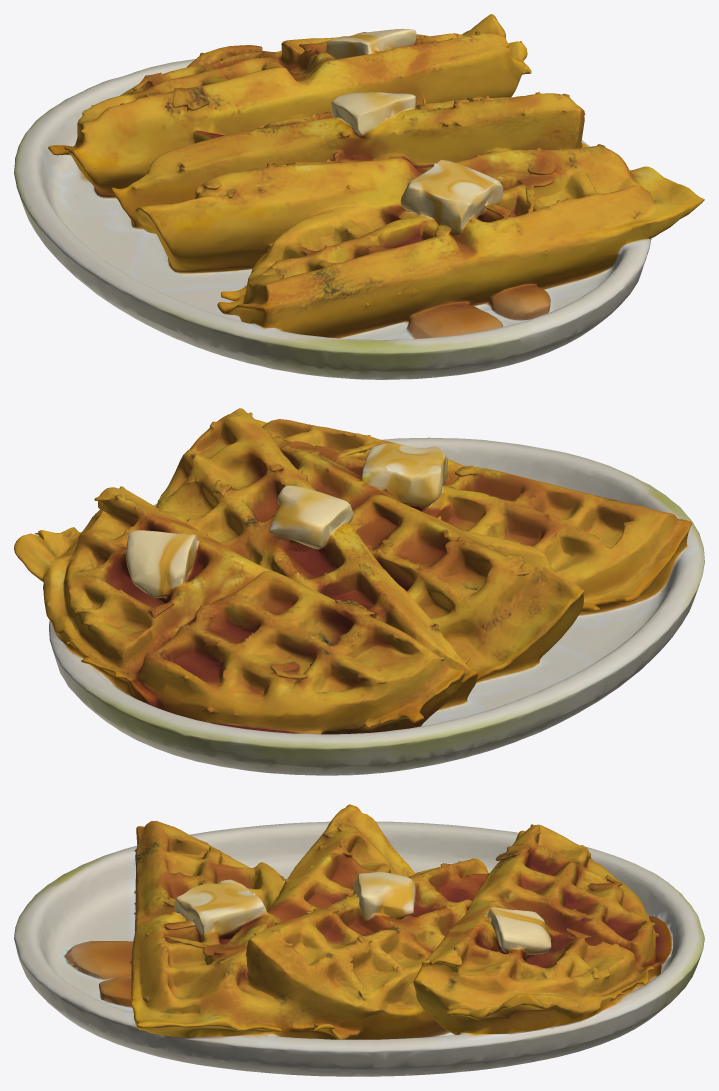
The model's file is golden_waffles_with_butter_and_maple_syrup.glb.
3 renders of one model, top to bottom at view 1: azimuth 30°, elevation 25°; view 2: azimuth 150°, elevation 25°; view 3: azimuth 270°, elevation 25°, orthographic. The views are drawn at different scales.
Visible parts, largest first — view 1: tripo_node_68c3b70d-87cc-4cfc-9431-e6b0e370a66d_0; view 2: tripo_node_68c3b70d-87cc-4cfc-9431-e6b0e370a66d_0; view 3: tripo_node_68c3b70d-87cc-4cfc-9431-e6b0e370a66d_0.
Boxes of the visible parts, bbox=[...] form: tripo_node_68c3b70d-87cc-4cfc-9431-e6b0e370a66d_0: bbox=[14, 14, 704, 379]; tripo_node_68c3b70d-87cc-4cfc-9431-e6b0e370a66d_0: bbox=[14, 408, 704, 775]; tripo_node_68c3b70d-87cc-4cfc-9431-e6b0e370a66d_0: bbox=[14, 804, 704, 1076].
Size of the model in its own units: 0.8003 by 0.2158 by 1.
1 material, 1 textured.
